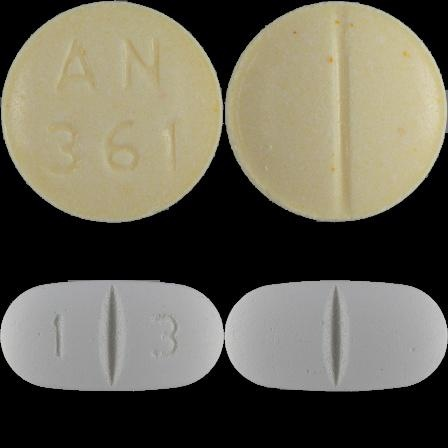68788-9479: (0, 0, 224, 224)
